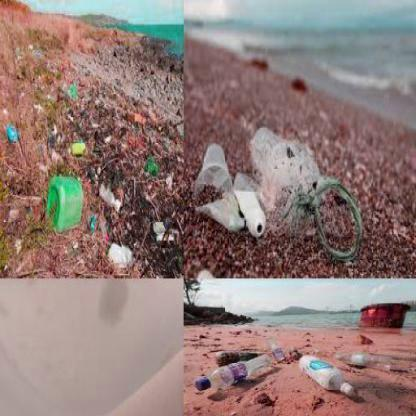Plastic: (193, 354, 275, 394), (297, 353, 357, 398), (193, 140, 234, 199), (230, 187, 269, 236), (347, 349, 371, 370)
Trash: (241, 127, 364, 265), (42, 172, 87, 233), (105, 237, 131, 272)
